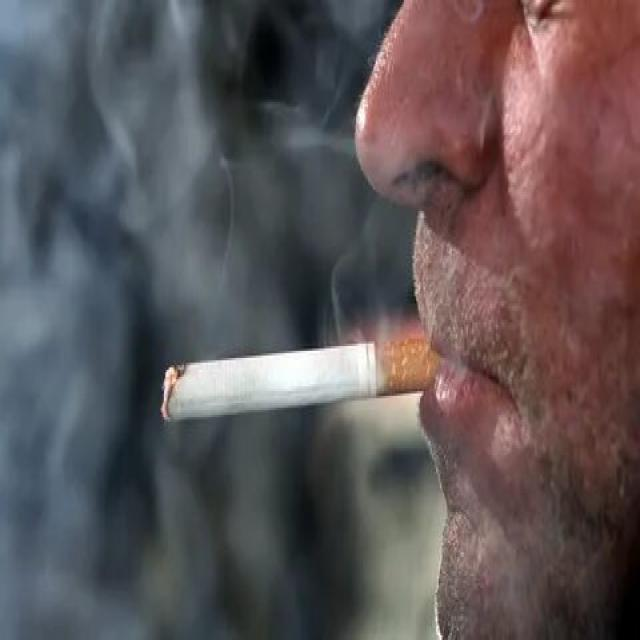smoke: (159, 332, 445, 424)
